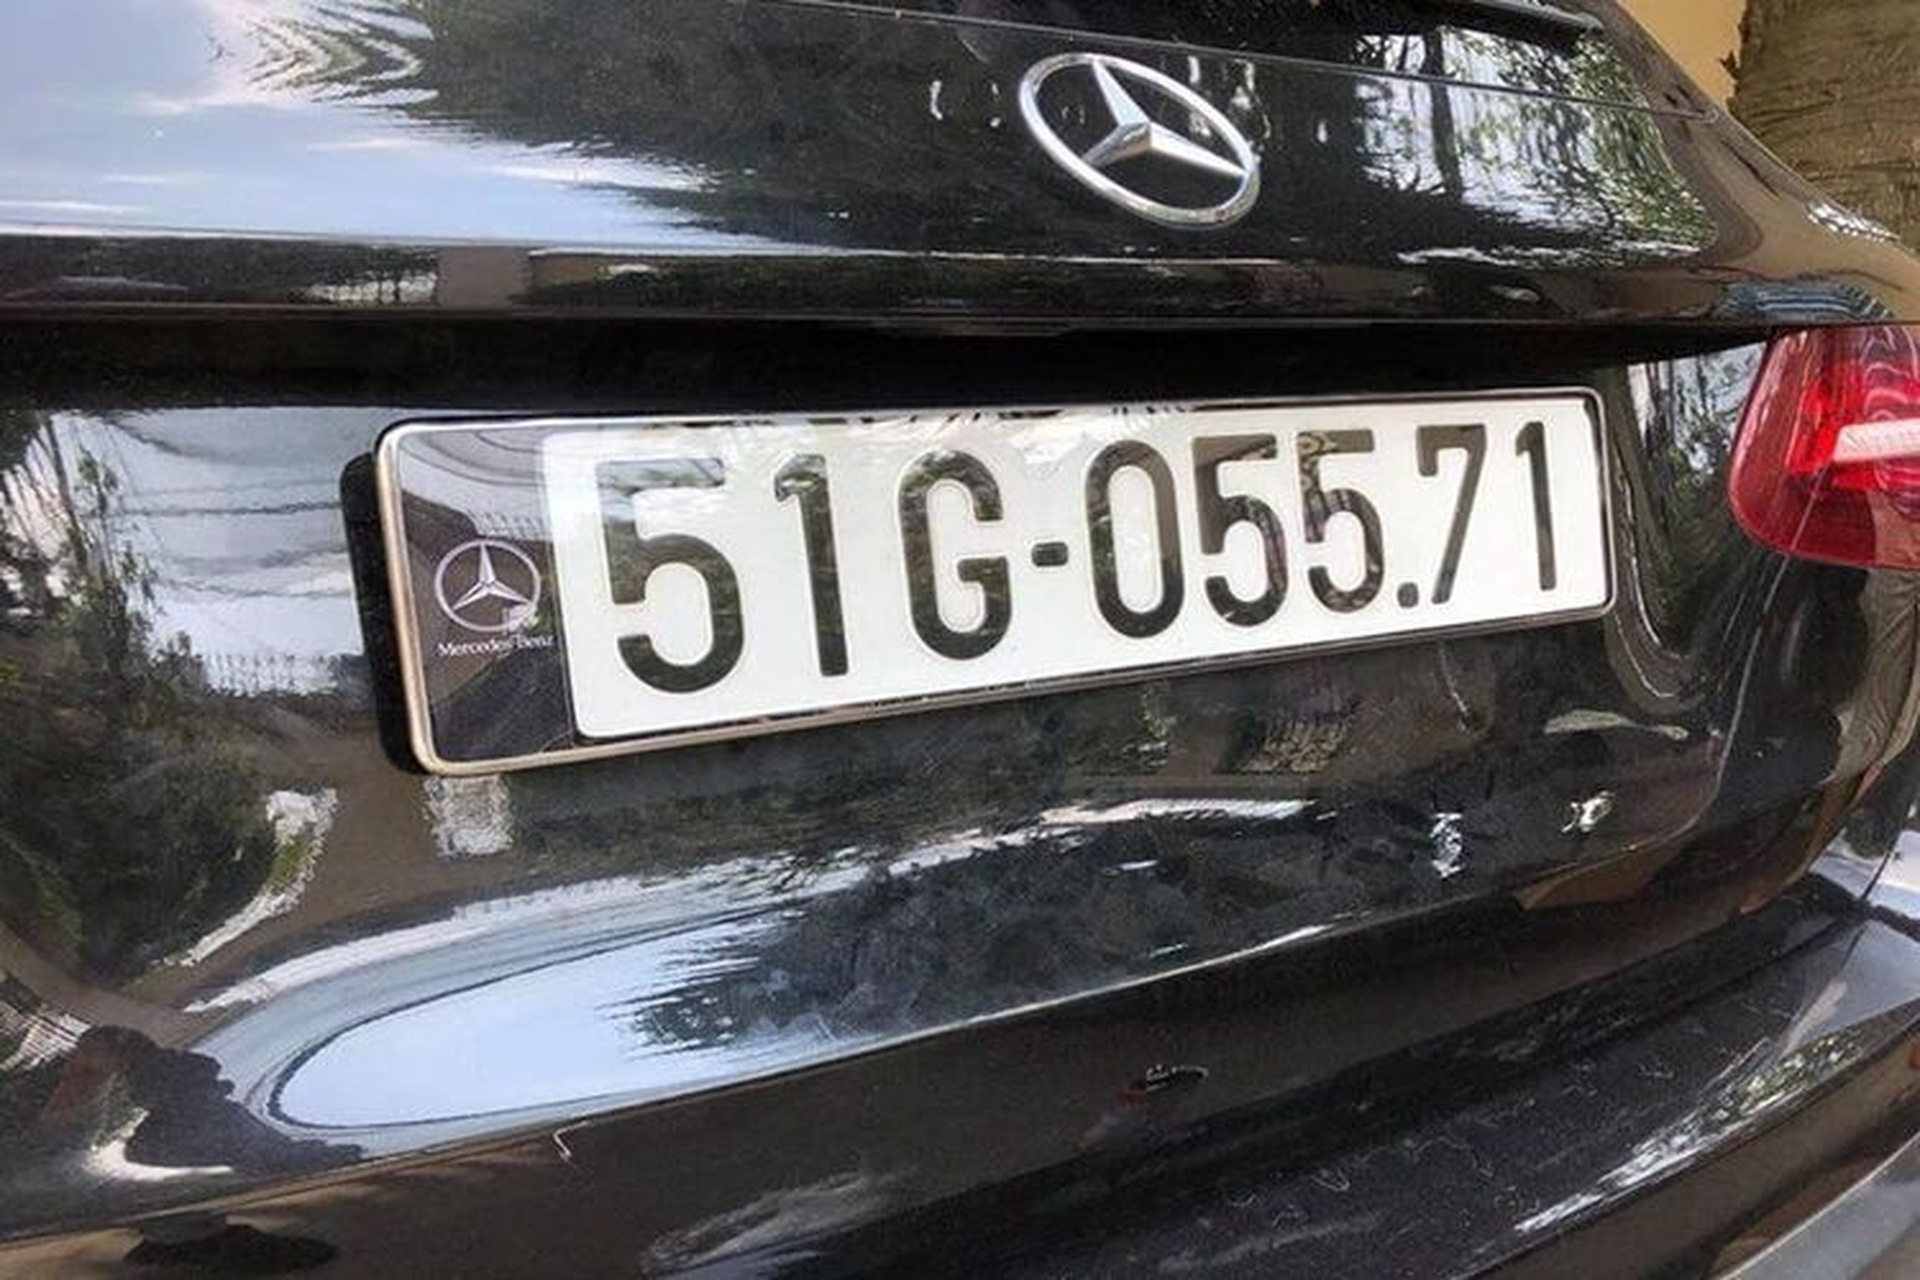bien_so: (390, 390, 1614, 771)
